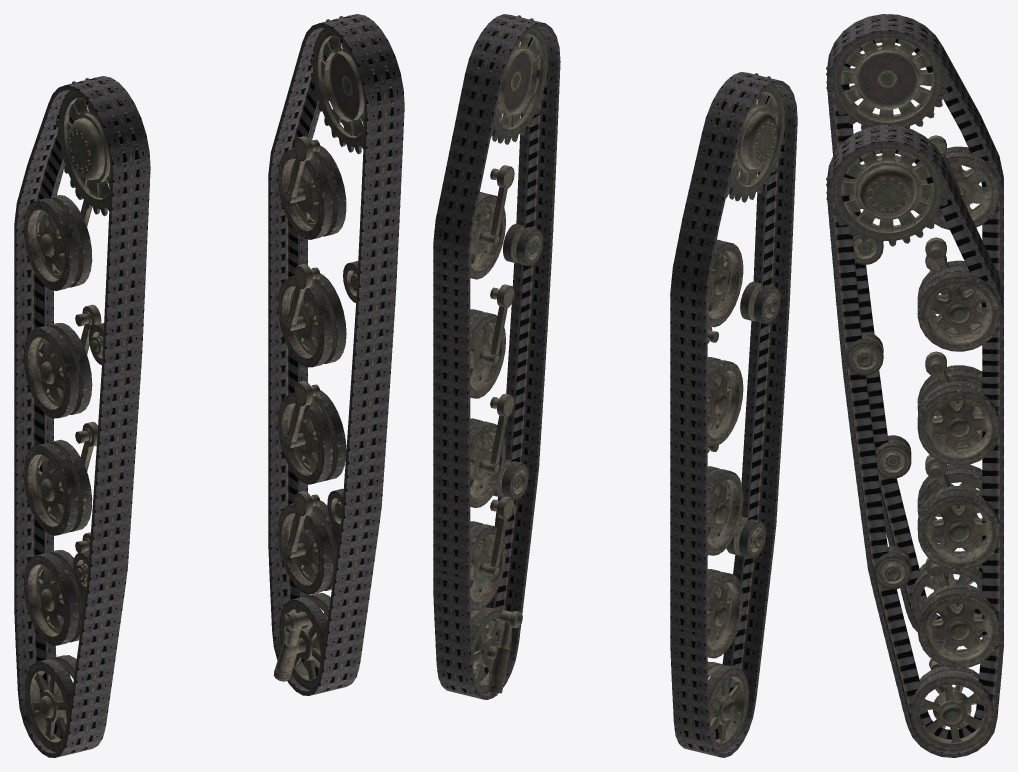
Rendered from Chassis.glb.
3 views of the same model, side by side, from view 1: azimuth 30°, elevation 25°; view 2: azimuth 150°, elevation 25°; view 3: azimuth 270°, elevation 25° (orthographic). The views are drawn at different scales.
Parts seen in each view (by area): view 1: set_0_group_0, set_1_group_0, set_2_group_0, set_3_group_0; view 2: set_0_group_0, set_1_group_0, set_3_group_0, set_2_group_0; view 3: set_3_group_0, set_1_group_0, set_2_group_0, set_0_group_0.
Boxes of the visible parts, <box> form: set_0_group_0: <box>14,76,150,757</box>; set_1_group_0: <box>268,14,404,695</box>; set_2_group_0: <box>24,77,140,751</box>; set_3_group_0: <box>273,15,394,689</box>; set_0_group_0: <box>670,72,797,757</box>; set_1_group_0: <box>433,14,560,699</box>; set_3_group_0: <box>470,15,548,695</box>; set_2_group_0: <box>707,73,785,751</box>; set_3_group_0: <box>826,128,999,751</box>; set_1_group_0: <box>827,124,1003,757</box>; set_2_group_0: <box>826,17,999,639</box>; set_0_group_0: <box>827,14,1003,646</box>.
Bounding box in the file's own units: 1.73 × 3.9 × 1.02.
Materials: 4 (4 with a texture image).
